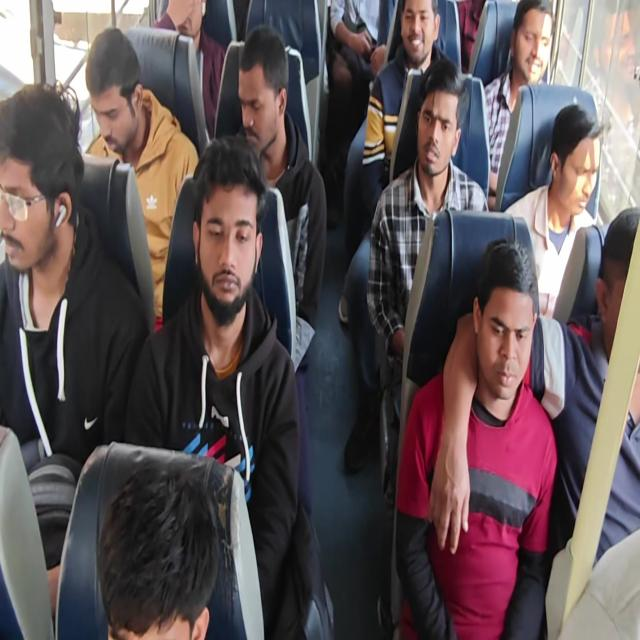person: (101, 469, 215, 640), (0, 84, 76, 267), (198, 148, 264, 314), (84, 25, 149, 161), (475, 243, 530, 399), (598, 205, 640, 358), (554, 98, 602, 218), (240, 35, 280, 143), (506, 0, 551, 90), (416, 73, 454, 178), (160, 0, 206, 47), (400, 0, 431, 66)
